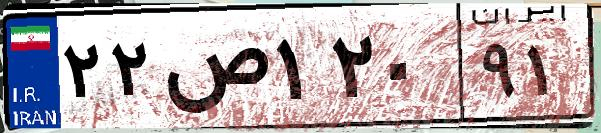0: (385, 28, 445, 110)
1: (270, 28, 330, 110), (525, 38, 570, 115)
2: (330, 28, 385, 110), (57, 26, 110, 100), (110, 28, 158, 98)
9: (475, 38, 525, 113)
ص: (158, 20, 270, 120)
